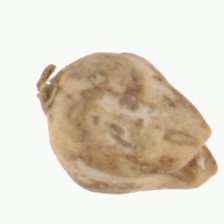L1: (177, 119, 219, 188), (38, 63, 59, 119)
L2: (36, 51, 218, 195)
